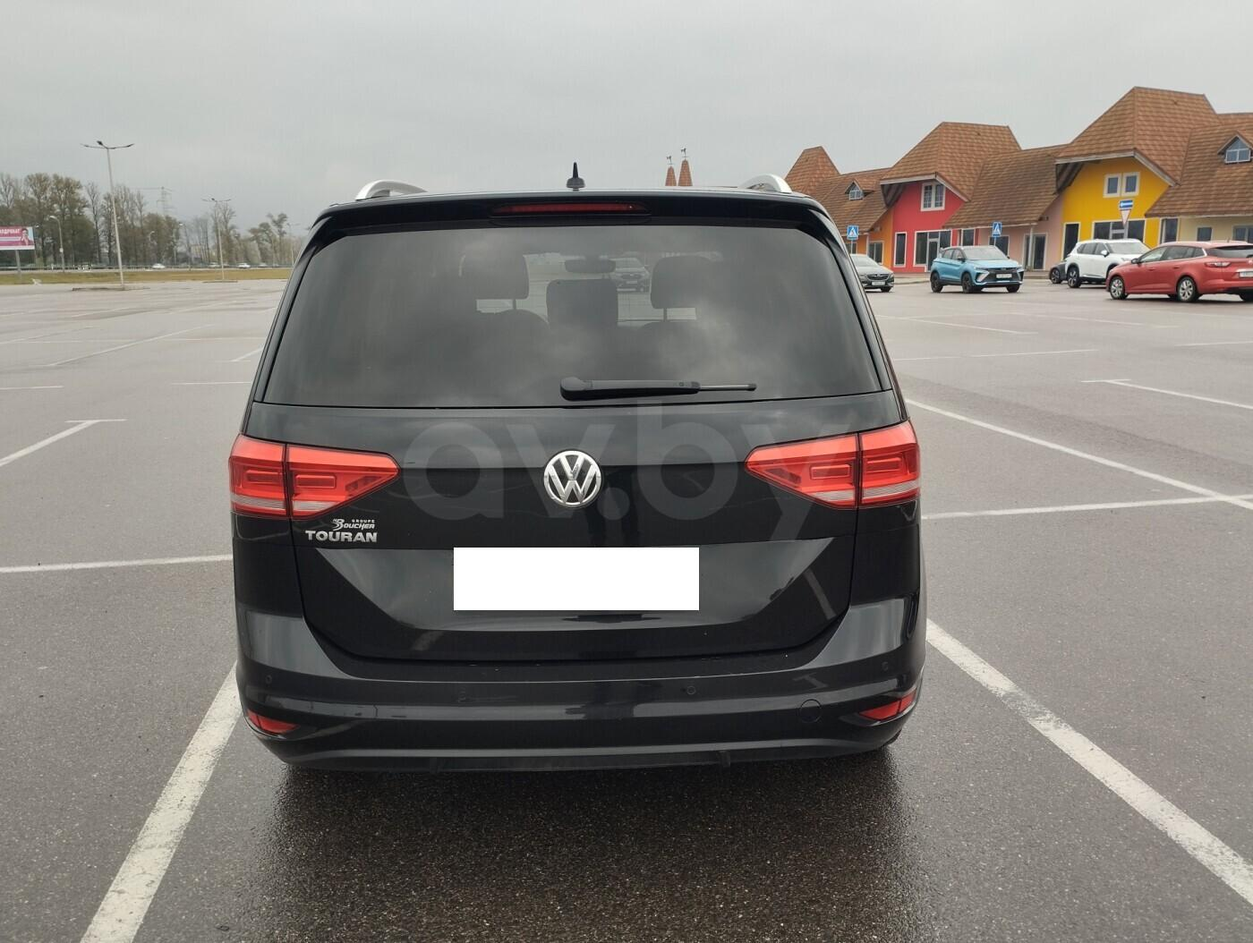Touran_2015: (224, 180, 935, 782)
